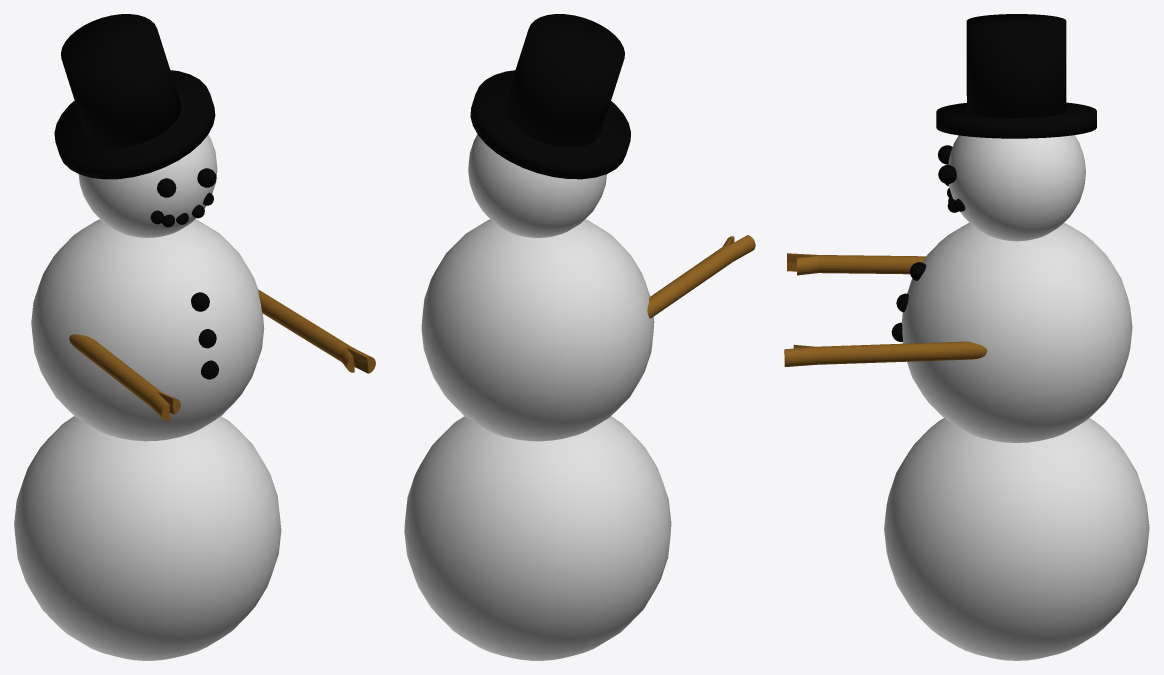
Rendered from snowman.glb.
3 renders of one model, left to right at view 1: azimuth 30°, elevation 25°; view 2: azimuth 150°, elevation 25°; view 3: azimuth 270°, elevation 25°, orthographic.
Parts seen in each view (by area): view 1: Sphere, Sphere.001, Cylinder, Sphere.002, Cylinder.002, Cylinder.001; view 2: Sphere, Sphere.001, Cylinder, Sphere.002, Cylinder.001; view 3: Sphere, Sphere.001, Cylinder, Sphere.002, Cylinder.002, Cylinder.001.
Part boxes in pixels (left/top/right/bottom): Sphere: left=14, top=416, right=281, bottom=660; Sphere.001: left=31, top=219, right=264, bottom=441; Cylinder: left=54, top=14, right=215, bottom=179; Sphere.002: left=78, top=135, right=217, bottom=237; Cylinder.002: left=258, top=289, right=375, bottom=373; Cylinder.001: left=69, top=334, right=180, bottom=421; Sphere: left=404, top=416, right=671, bottom=660; Sphere.001: left=421, top=219, right=654, bottom=441; Cylinder: left=470, top=14, right=630, bottom=179; Sphere.002: left=468, top=134, right=606, bottom=237; Cylinder.001: left=647, top=235, right=755, bottom=318; Sphere: left=884, top=418, right=1149, bottom=660; Sphere.001: left=901, top=222, right=1132, bottom=442; Cylinder: left=936, top=14, right=1096, bottom=138; Sphere.002: left=948, top=135, right=1085, bottom=241; Cylinder.002: left=784, top=341, right=987, bottom=366; Cylinder.001: left=787, top=253, right=925, bottom=275.
Size of the model in its own units: 2 by 5.17 by 2.75.
